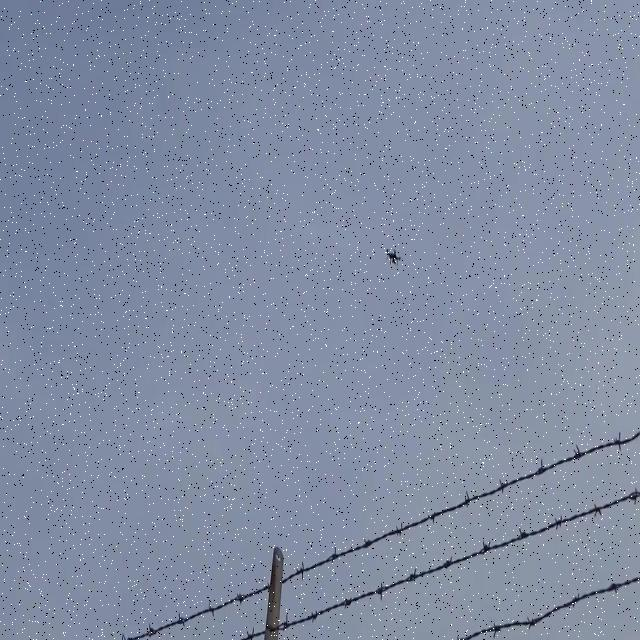UAV: (386, 248, 402, 267)
